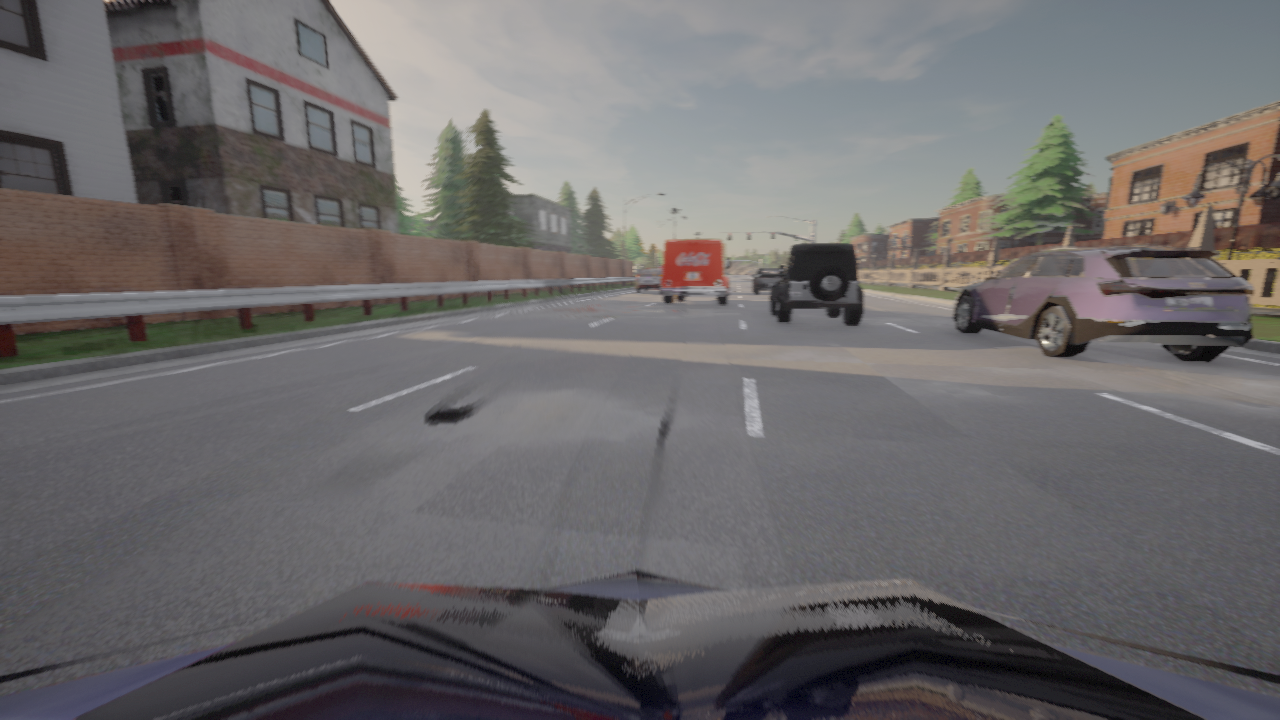cyclist: (0, 569, 1279, 719), (952, 245, 1254, 362), (770, 244, 863, 324), (660, 239, 729, 304), (752, 269, 783, 293), (636, 268, 662, 293), (784, 271, 785, 273)
